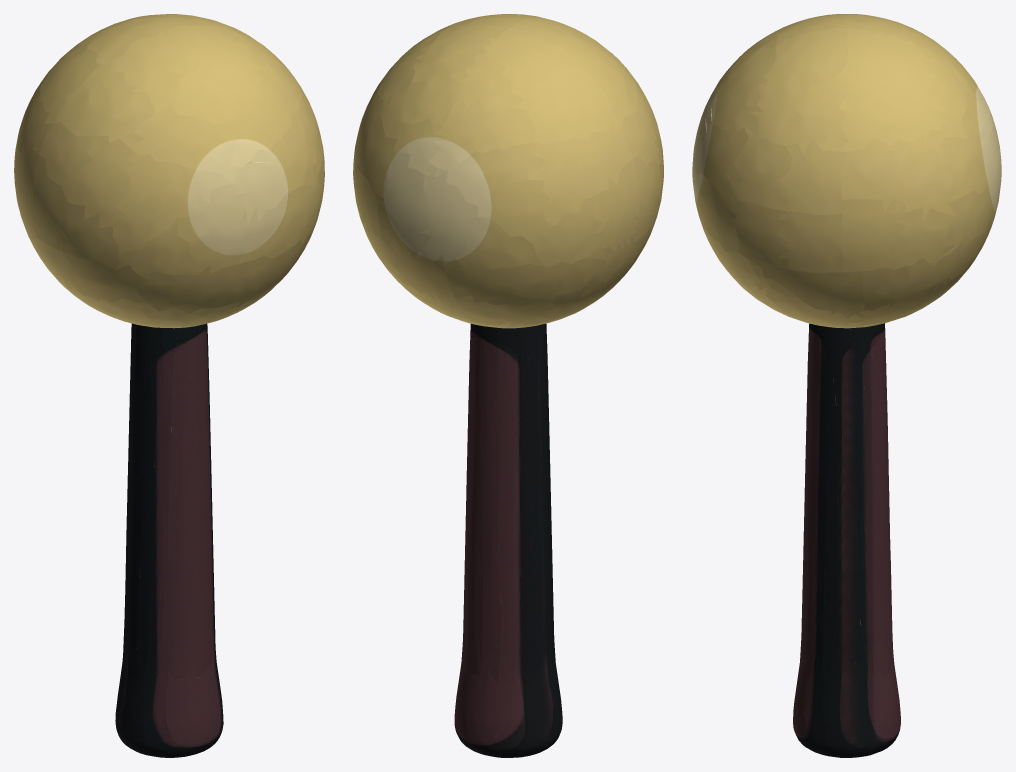
File: mallet.glb
The picture shows the model from 3 angles, left to right: view 1: azimuth 30°, elevation 25°; view 2: azimuth 150°, elevation 25°; view 3: azimuth 270°, elevation 25°; orthographic projection.
Size of the model in its own units: 0.7456 by 1.9 by 0.7458.
1 material, 1 textured.
